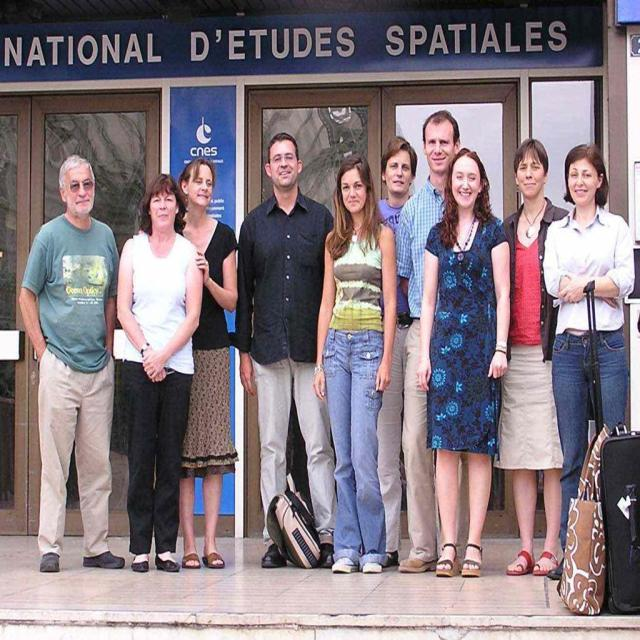Face: (564, 160, 611, 217), (509, 146, 552, 204), (61, 152, 95, 221), (426, 111, 459, 182), (180, 158, 217, 218), (336, 164, 372, 220), (454, 150, 486, 213), (383, 150, 419, 203), (270, 137, 302, 194), (147, 190, 179, 233)
